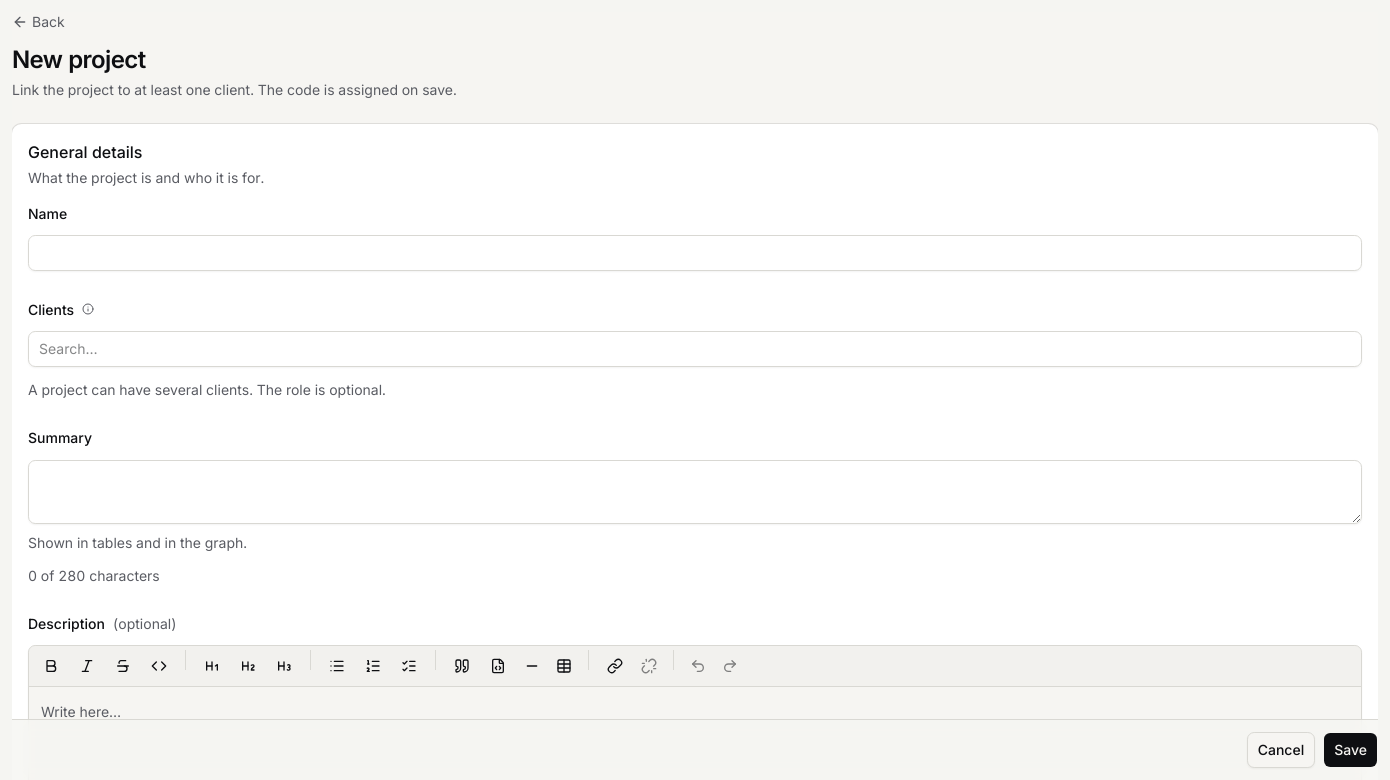
Test: ProjectForm (create) › counts the summary against the 280-character limit (PRD §8.3)
The image size is (1390, 780).
expect the text "0 of 280 characters" is shown: met, box top-left (28, 566), bottom-right (160, 584)
Type "Hola mundo" into the text box labelled "Summary" at (695, 492), box top-left (28, 460), bottom-right (1362, 524)
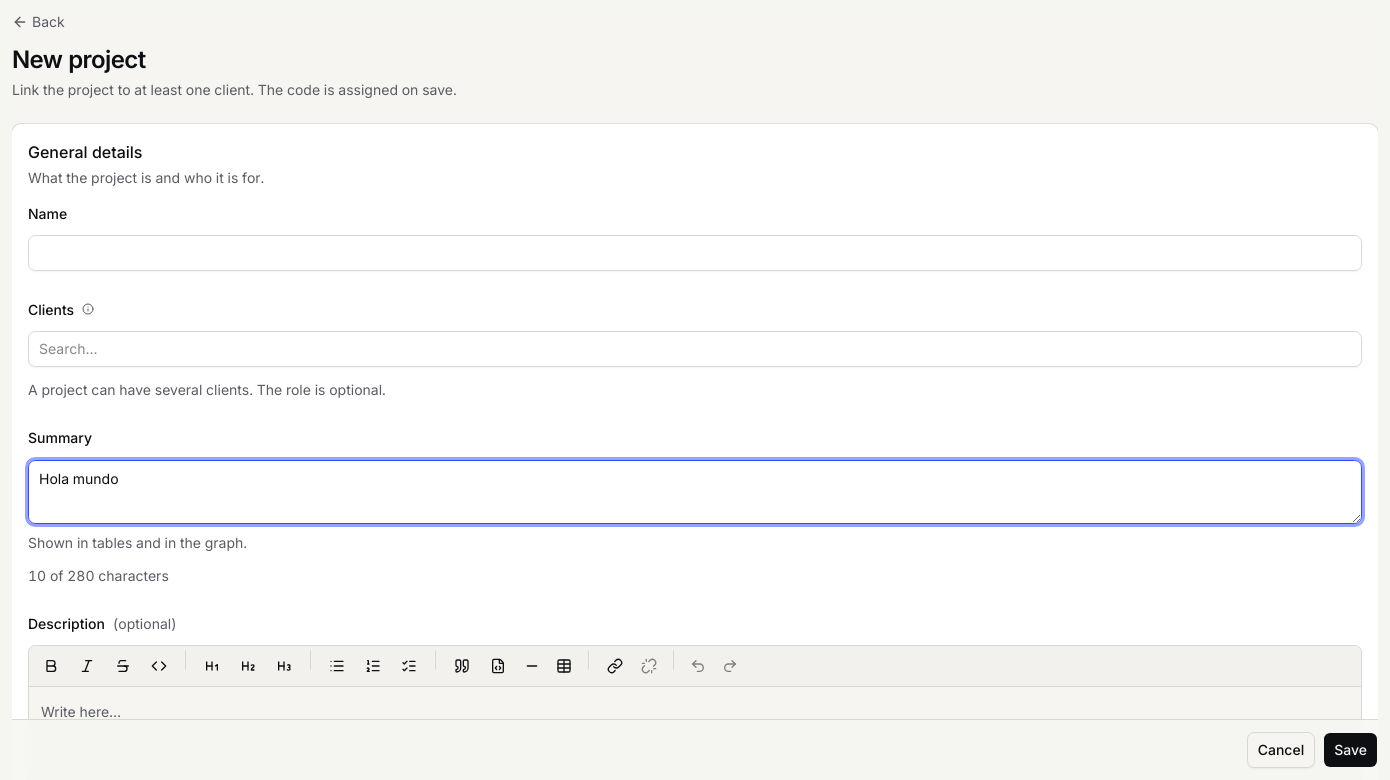
expect the text "10 of 280 characters" is shown: met, box top-left (28, 566), bottom-right (169, 584)
